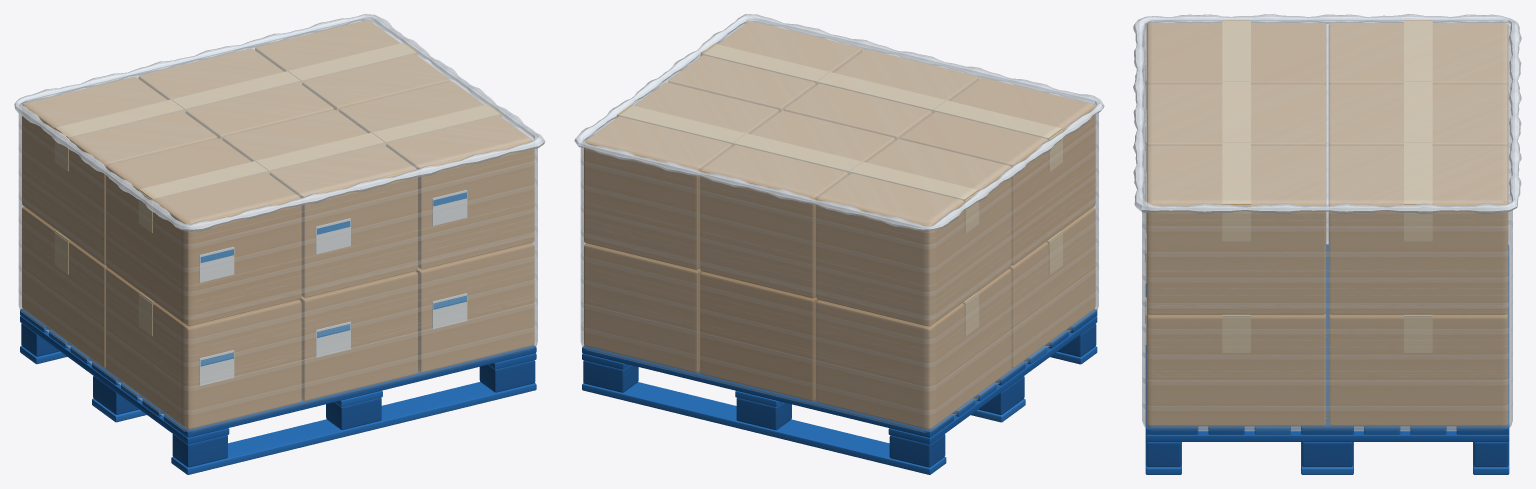
Rendered from pallet_load_half.glb.
3 views of the same model, side by side, from view 1: azimuth 30°, elevation 25°; view 2: azimuth 150°, elevation 25°; view 3: azimuth 270°, elevation 25° (orthographic). The views are drawn at different scales.
Visible parts, largest first — view 1: film_geo, load_geo, pallet_geo; view 2: film_geo, load_geo, pallet_geo; view 3: film_geo, load_geo, pallet_geo.
Boxes of the visible parts, bbox=[...] form: film_geo: bbox=[14, 14, 545, 432]; load_geo: bbox=[22, 20, 534, 429]; pallet_geo: bbox=[20, 308, 536, 474]; film_geo: bbox=[574, 14, 1104, 432]; load_geo: bbox=[584, 21, 1095, 429]; pallet_geo: bbox=[582, 309, 1097, 474]; film_geo: bbox=[1133, 14, 1521, 431]; load_geo: bbox=[1145, 20, 1508, 426]; pallet_geo: bbox=[1145, 244, 1509, 474].
Bounding box in the file's own units: 1.27 × 0.8317 × 1.07.
12 materials, 1 textured.
